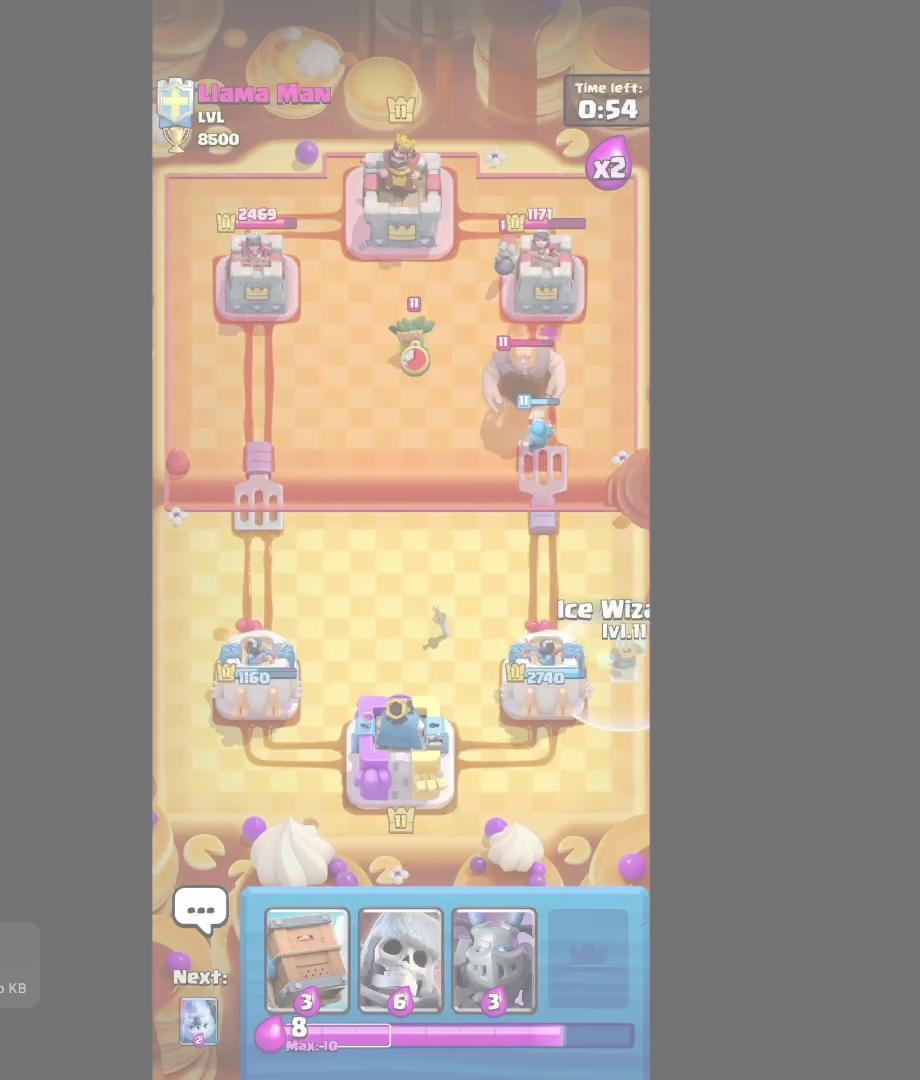Dart Goblin: (385, 299, 450, 373)
Giant: (483, 336, 571, 420)
